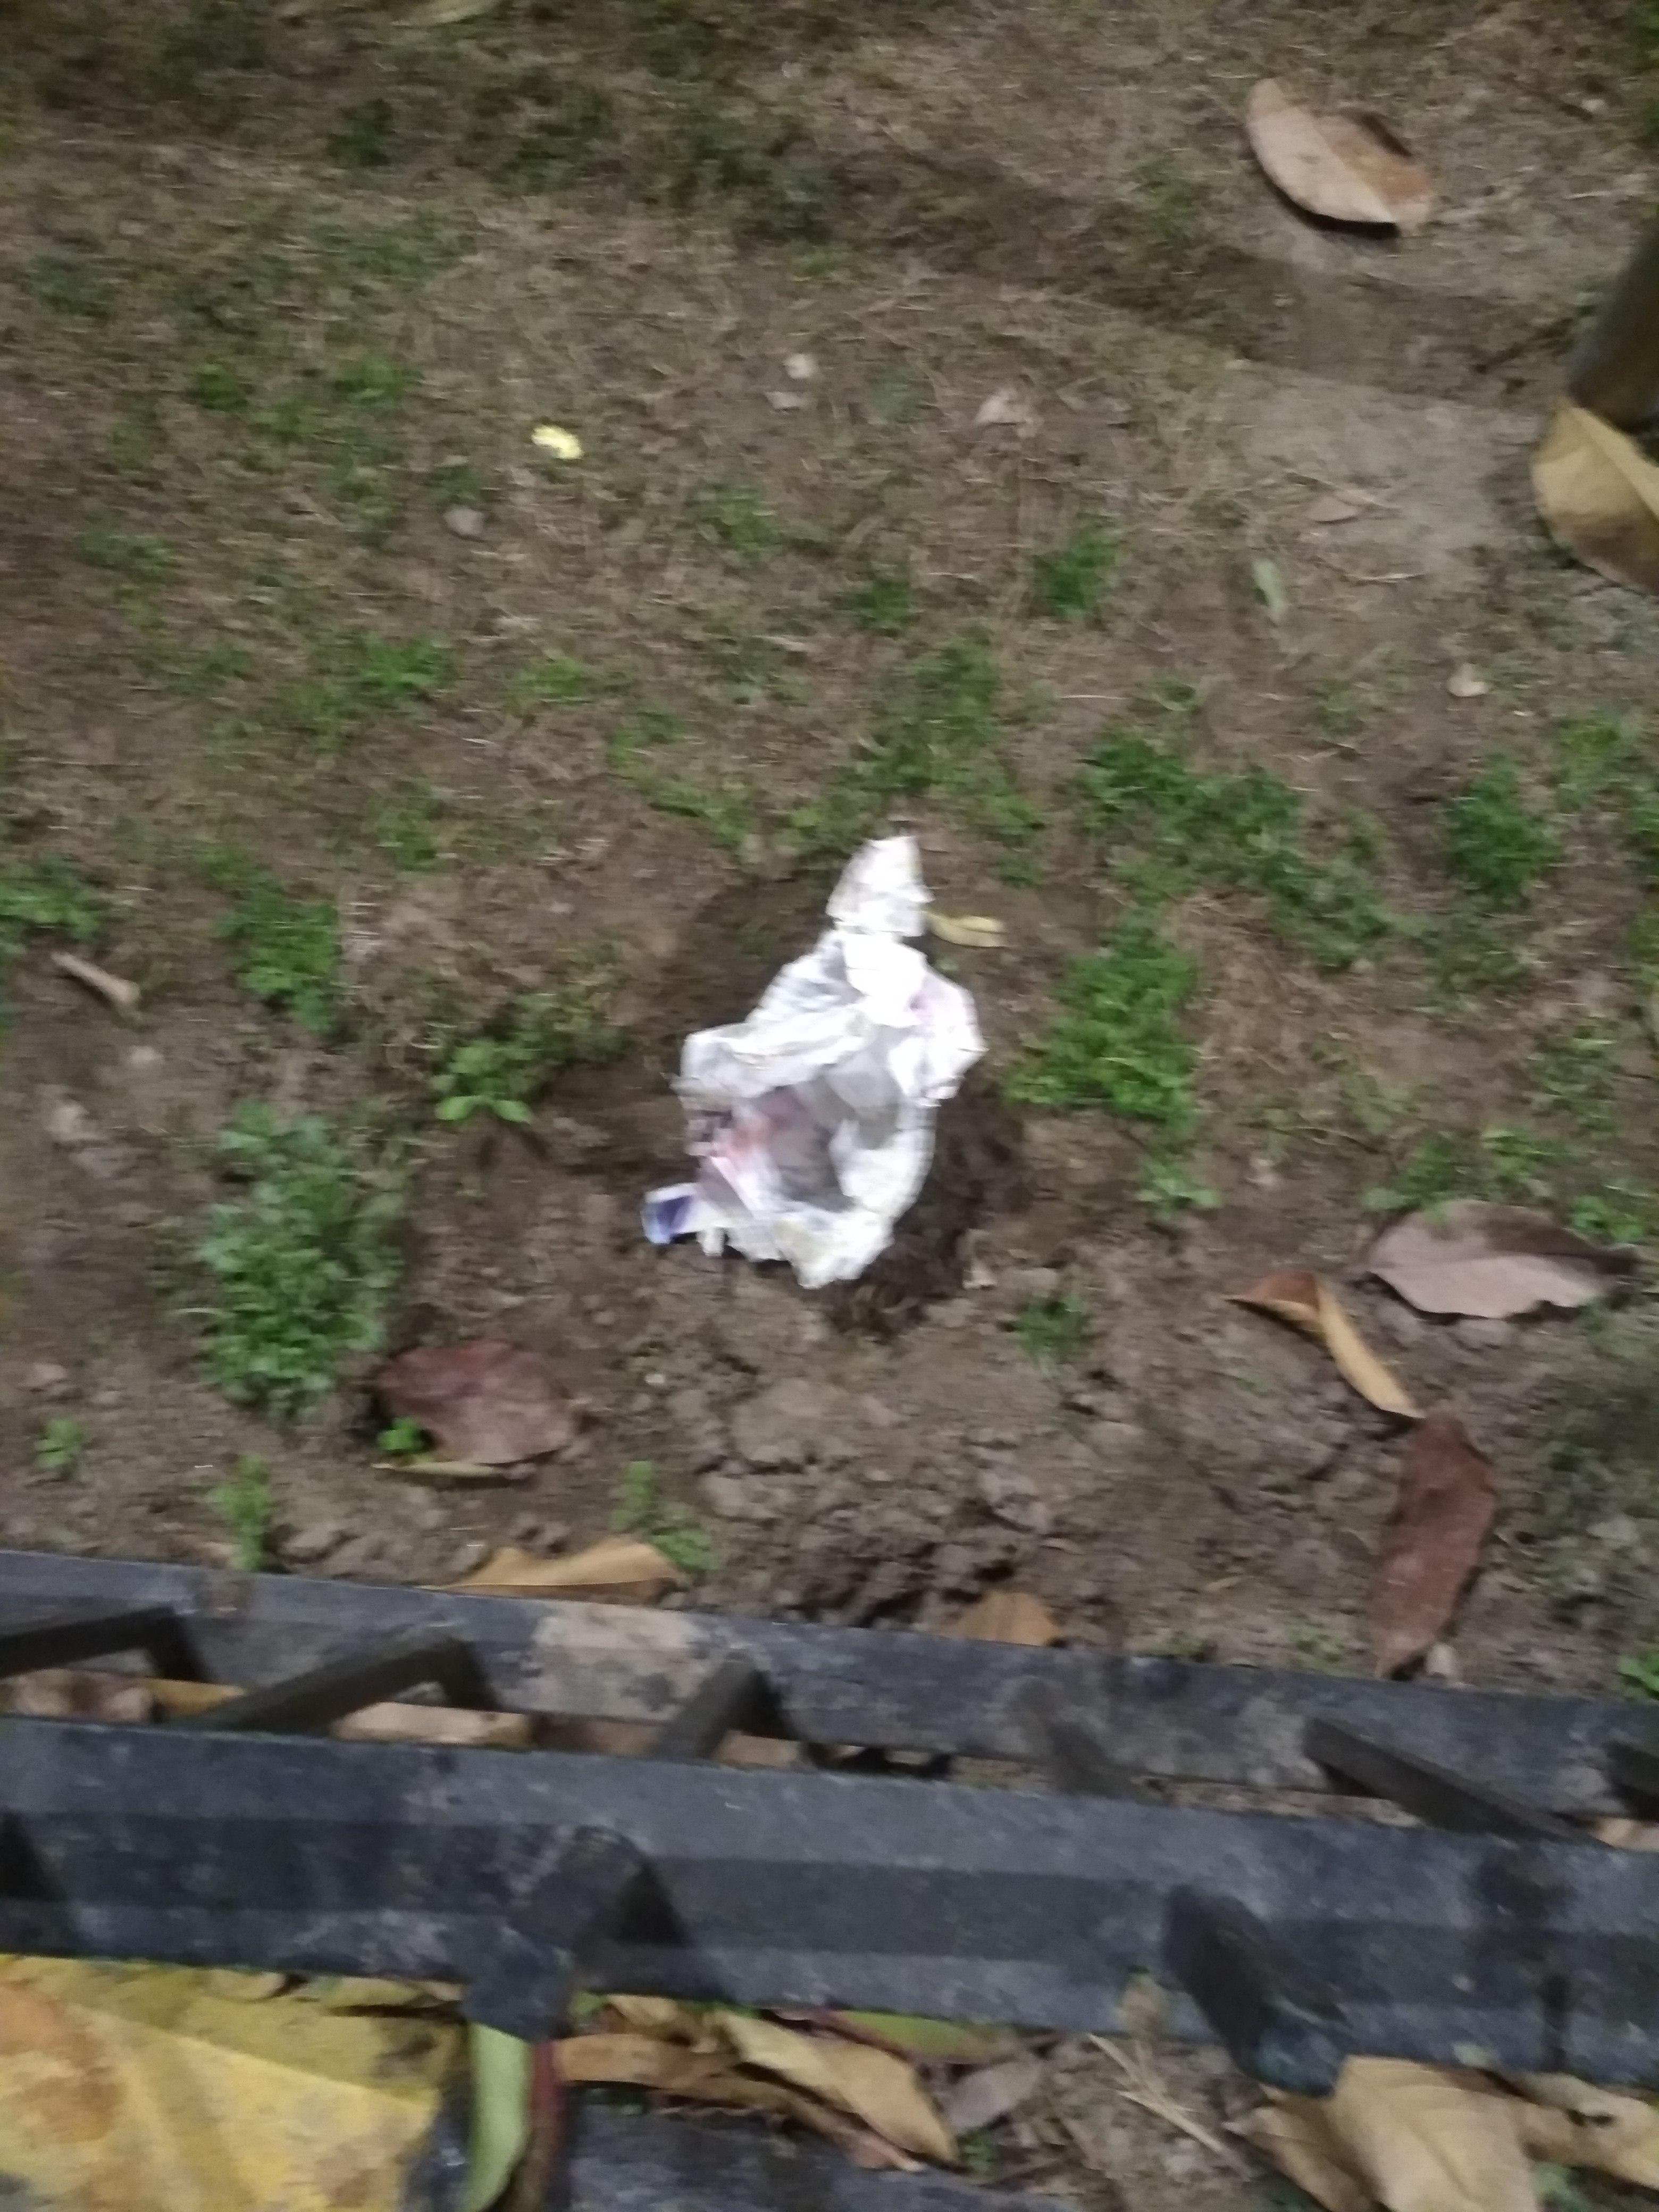trash: (622, 817, 997, 1310)
